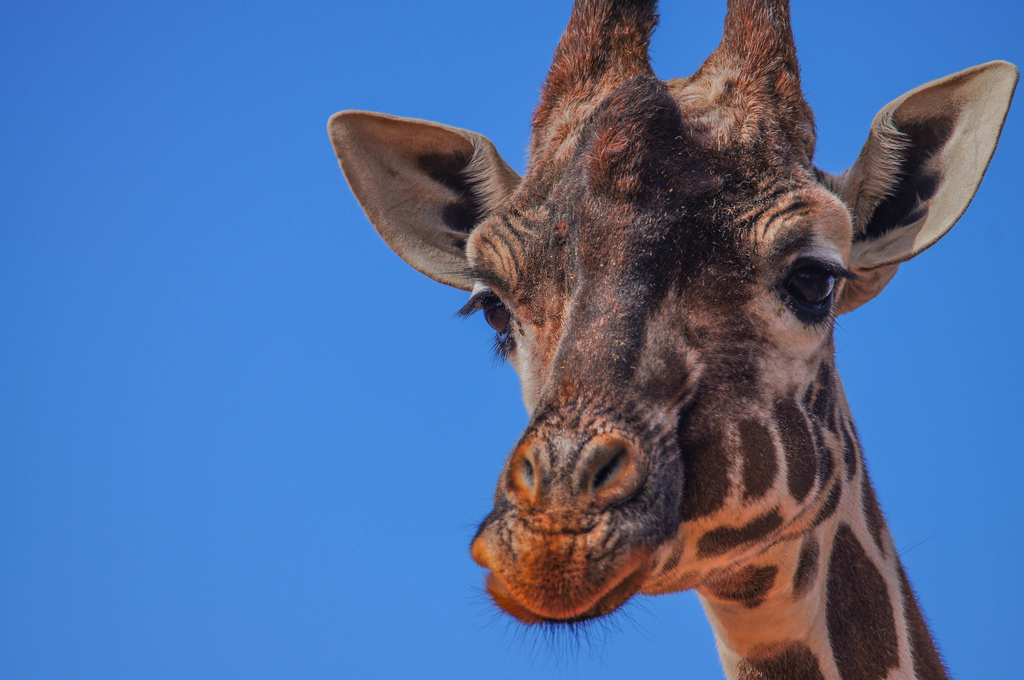giraffe: (323, 12, 973, 657)
